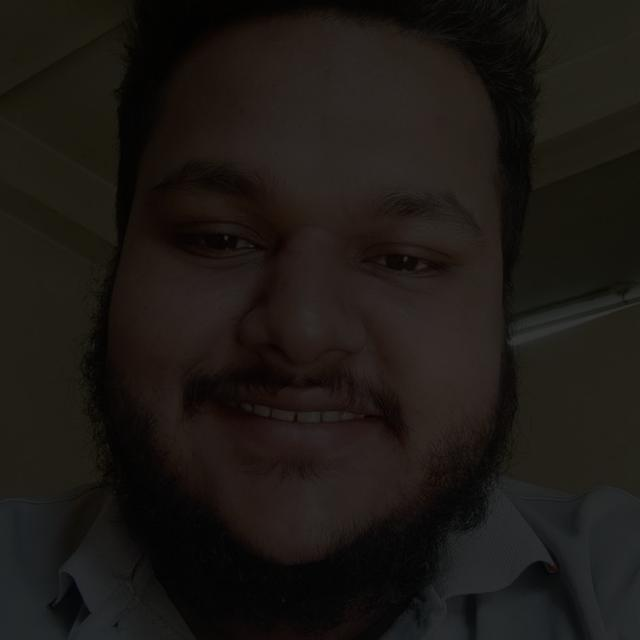Happy: (60, 122, 530, 573)
